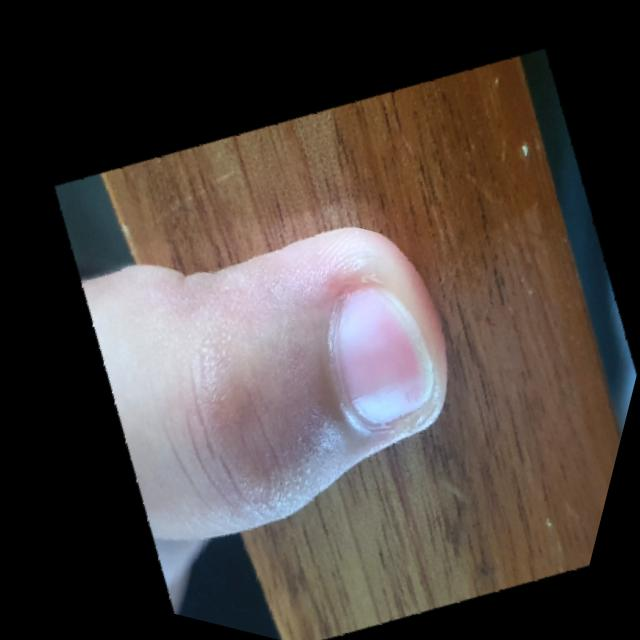Nail: (330, 287, 431, 423)
